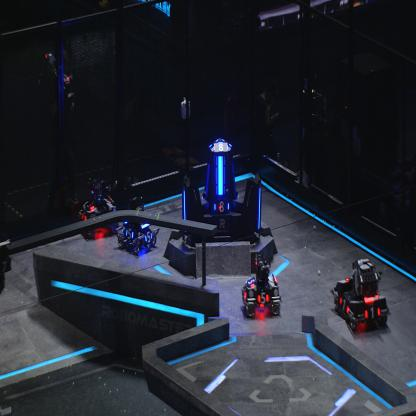car: (330, 252, 392, 332), (79, 173, 120, 240), (241, 250, 281, 316), (117, 192, 158, 256)
